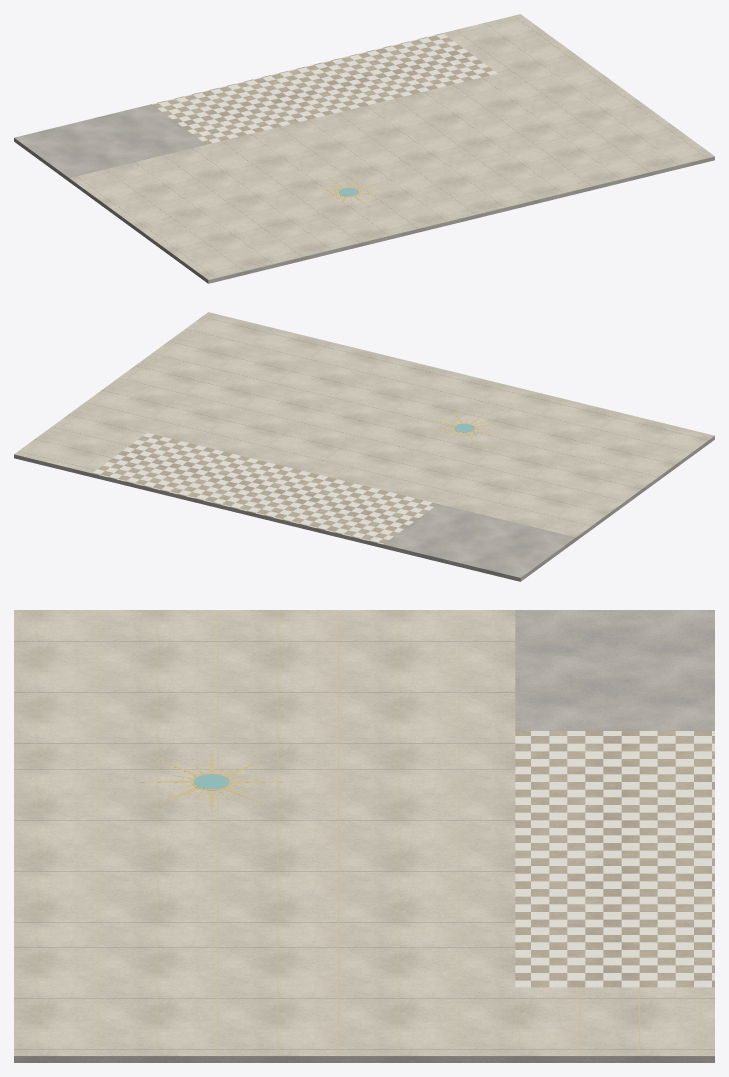
The model's file is floor.glb.
3 renders of one model, top to bottom at view 1: azimuth 30°, elevation 25°; view 2: azimuth 150°, elevation 25°; view 3: azimuth 270°, elevation 25°, orthographic. The views are drawn at different scales.
Visible parts, largest first — view 1: floor_terrazzo, floor_concrete, floor_lino, floor_cream, floor_brass; view 2: floor_terrazzo, floor_concrete, floor_lino, floor_cream, floor_brass; view 3: floor_terrazzo, floor_concrete, floor_cream, floor_lino, floor_brass.
Part boxes in pixels (x1,y1,x2,y2): floor_terrazzo: (69,14,714,280); floor_concrete: (14,104,714,283); floor_lino: (152,33,493,144); floor_cream: (152,33,497,142); floor_brass: (83,17,705,277); floor_terrazzo: (14,312,714,537); floor_concrete: (14,436,714,581); floor_lino: (92,435,437,543); floor_cream: (93,433,433,544); floor_brass: (23,315,701,534); floor_terrazzo: (14,610,714,1056); floor_concrete: (14,610,714,1062); floor_cream: (515,731,714,987); floor_lino: (515,731,714,987); floor_brass: (14,610,700,1056).
Bounding box in the file's own units: 17.5 × 0.135 × 11.63.
Materials: 6 (3 with a texture image).
